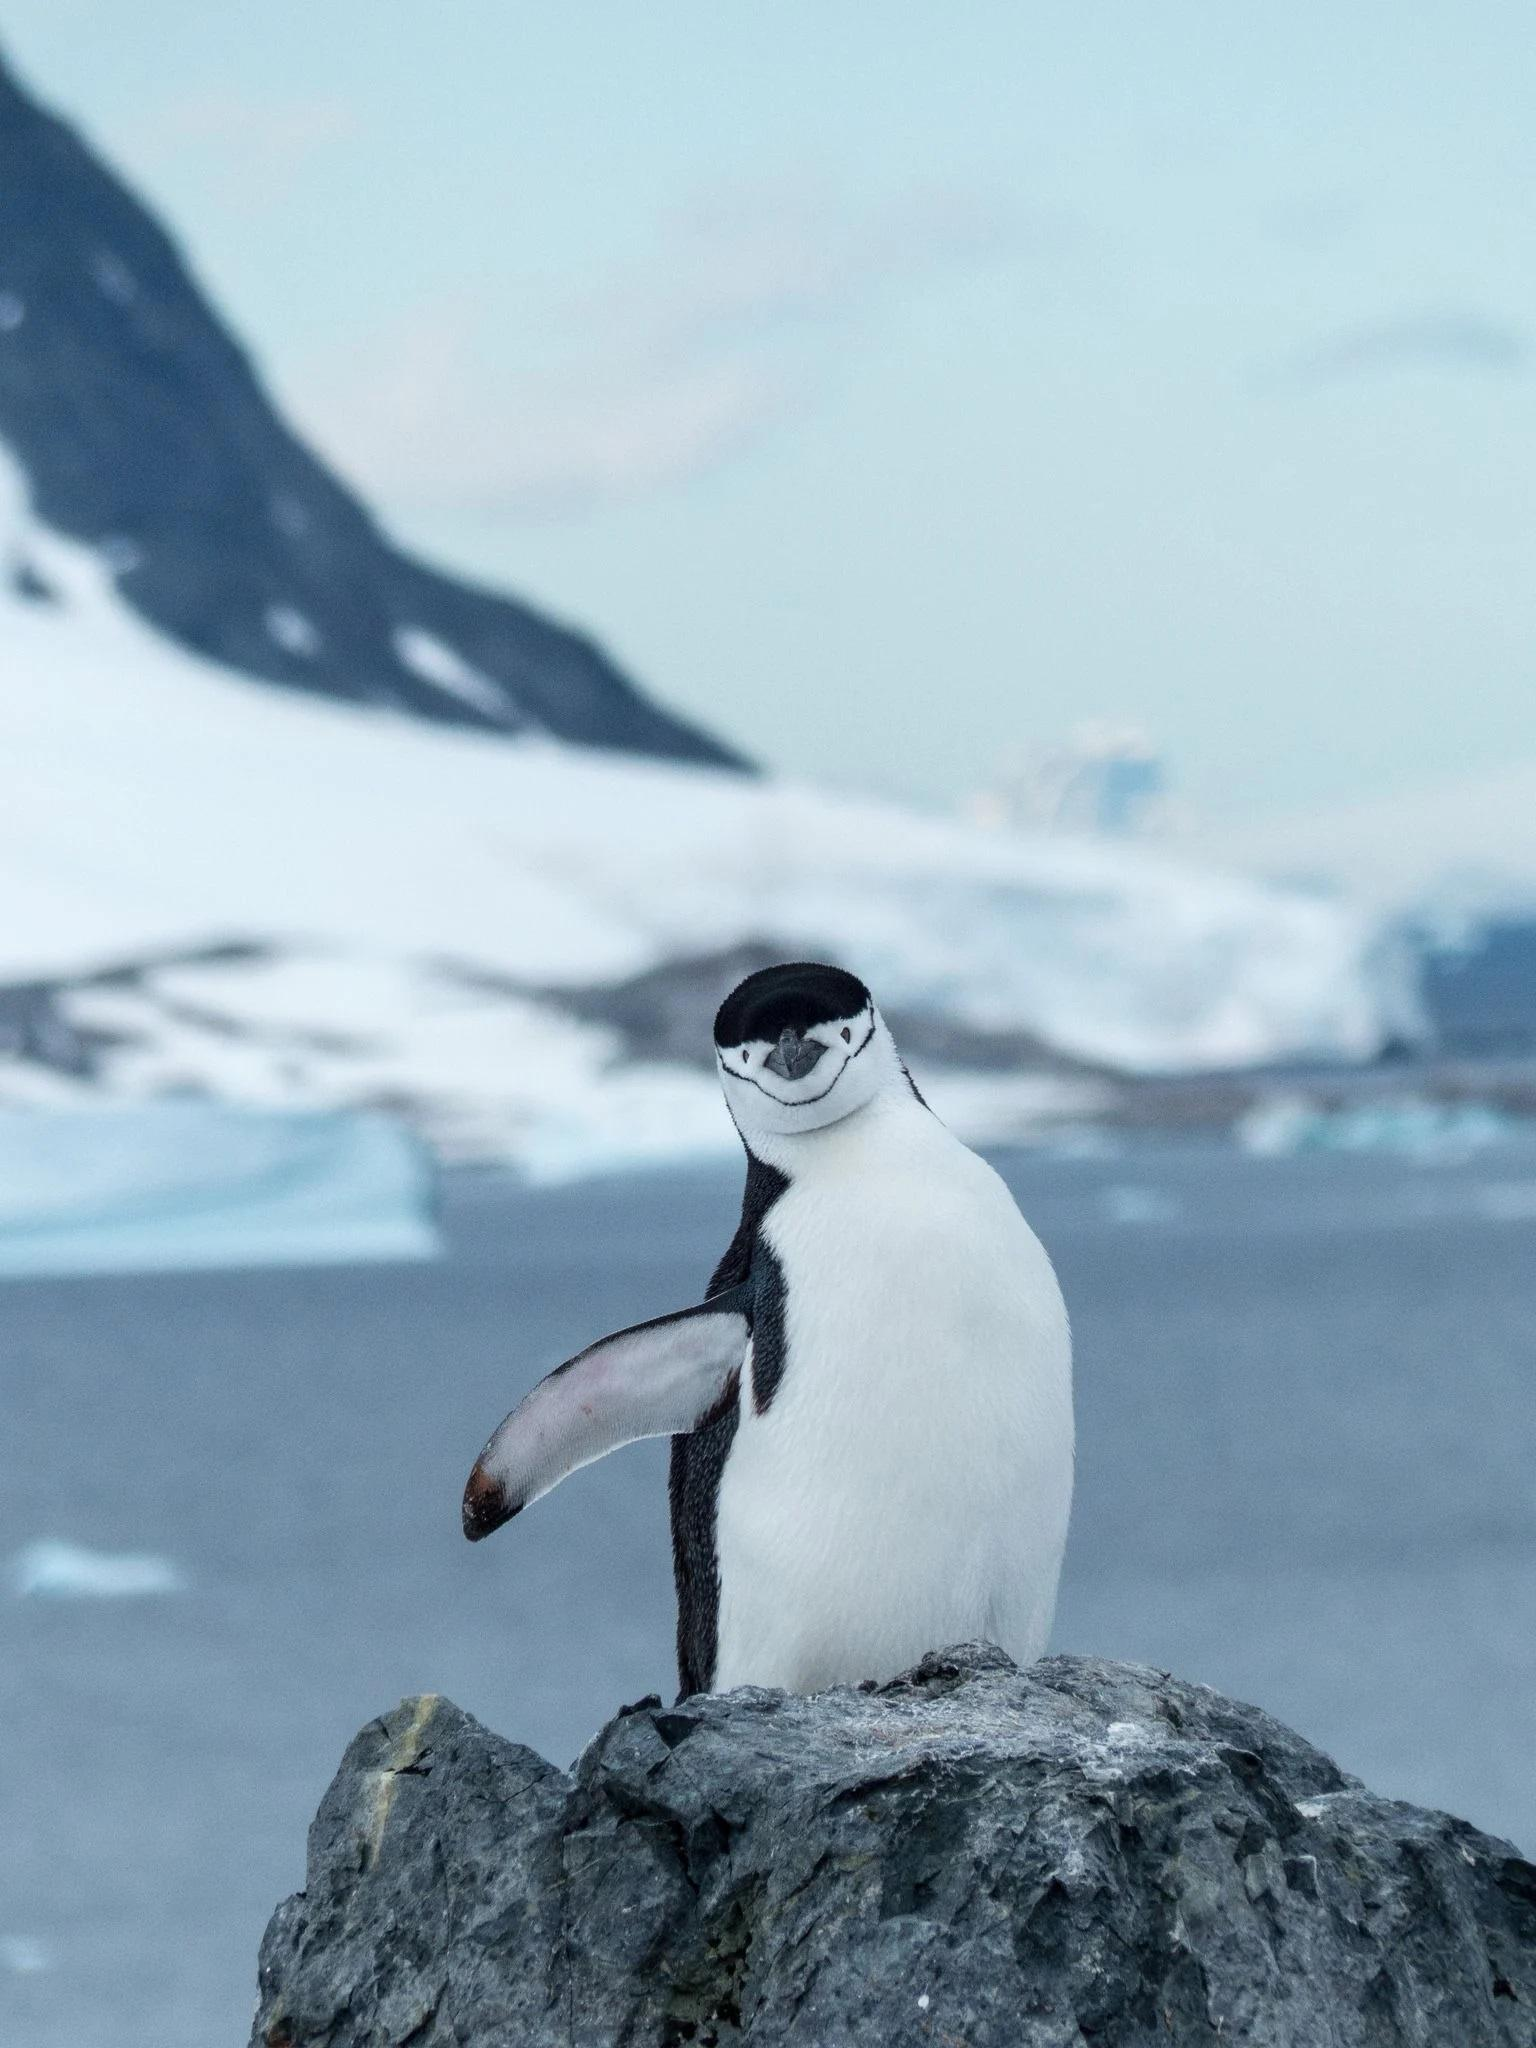chinstrap: (447, 926, 1197, 1798)
